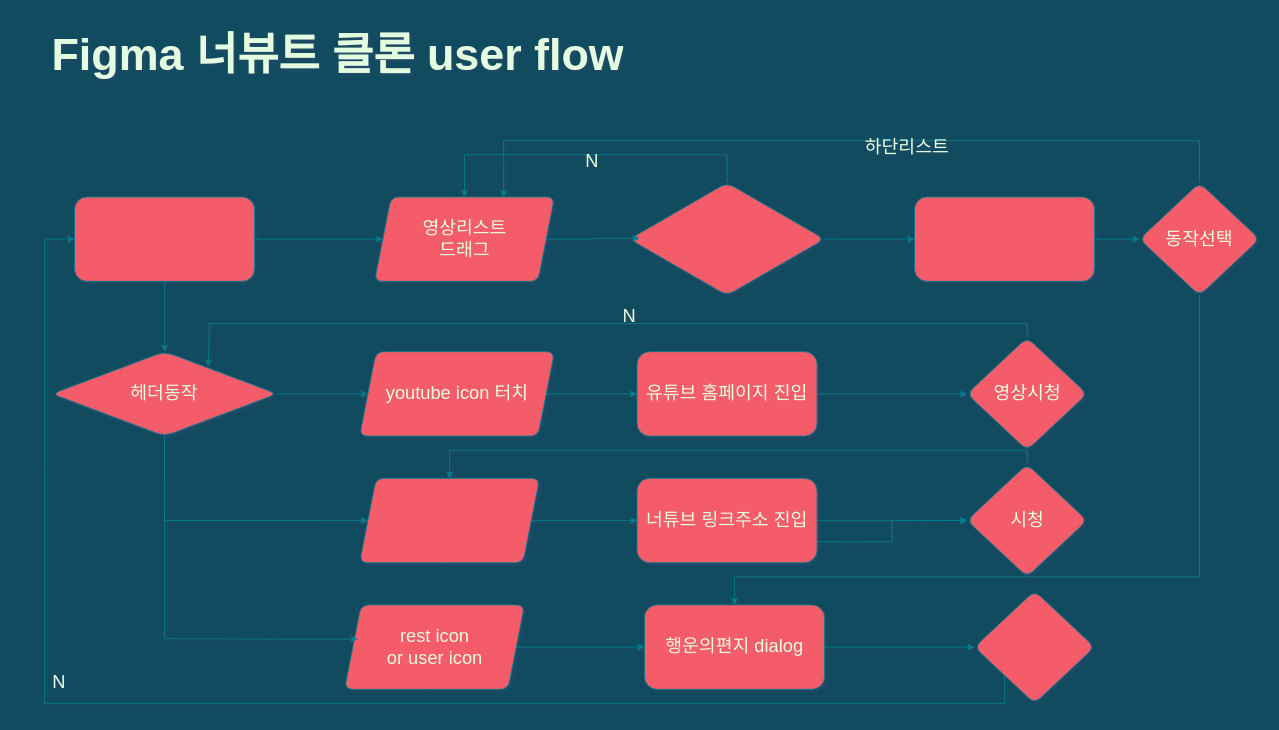
The diagram is 1279 pixels wide and 730 high, and some of its shapes have lost their labels. The box of each missing label's shape, as (x1, y1, x2, y2) in pixels:
detail 진입: (914, 196, 1095, 281)
너튜브 링크 터치: (359, 477, 540, 563)
앱진입: (74, 196, 255, 281)
원하는 영상 터치: (629, 182, 825, 295)
읽기: (974, 590, 1095, 703)
